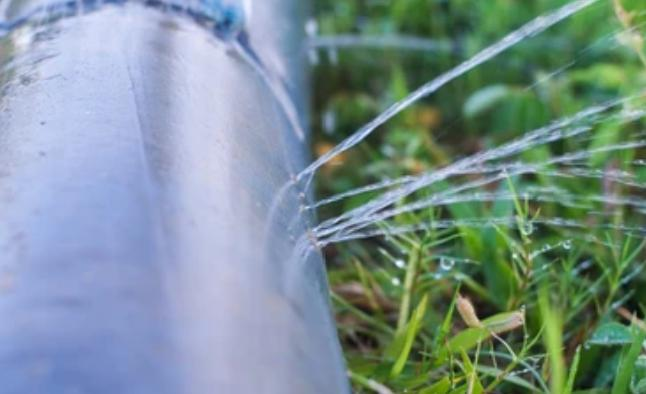pipe burst: (290, 0, 646, 253)
water drop: (439, 258, 455, 270), (562, 238, 574, 250), (522, 223, 534, 233)
